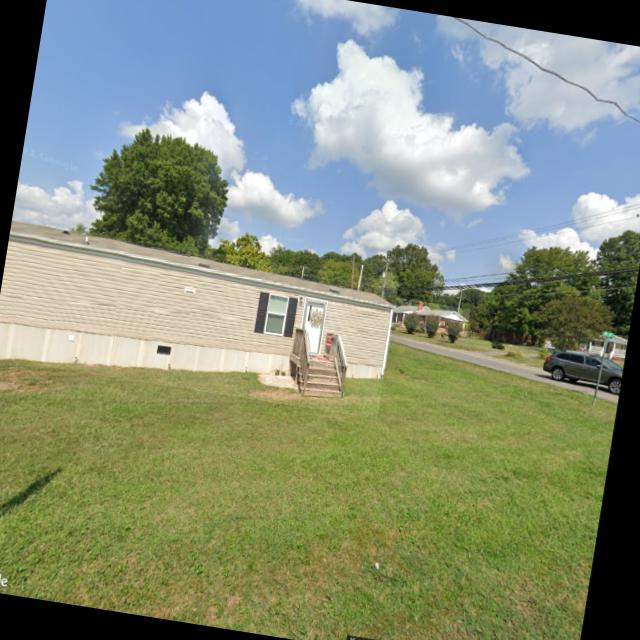House: (0, 220, 399, 419), (392, 298, 471, 338), (544, 324, 628, 361)
